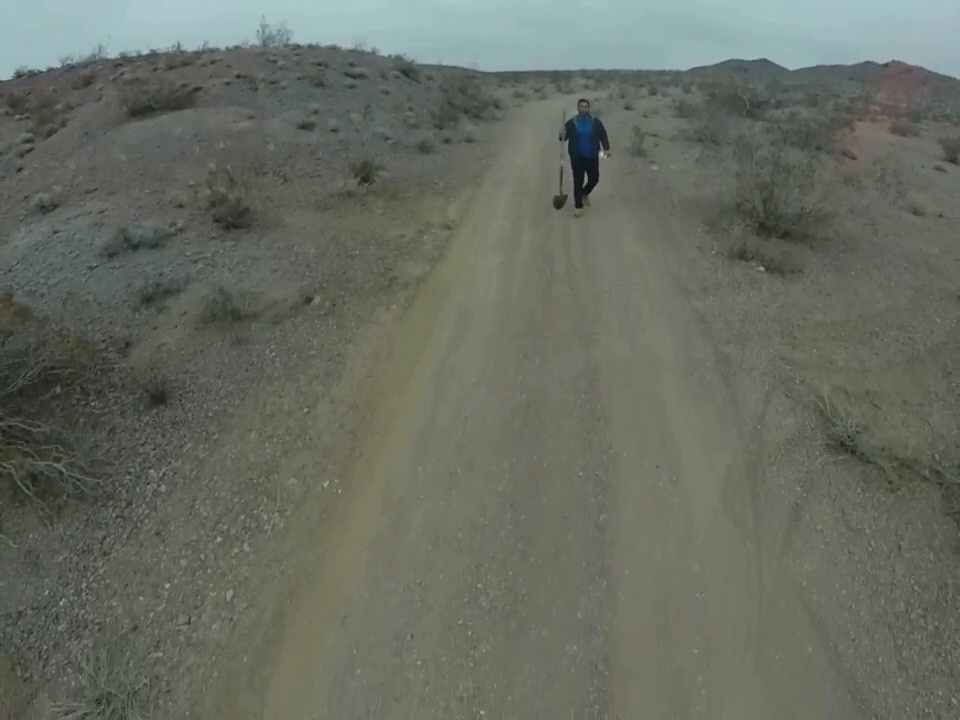insan: (556, 99, 614, 214)
